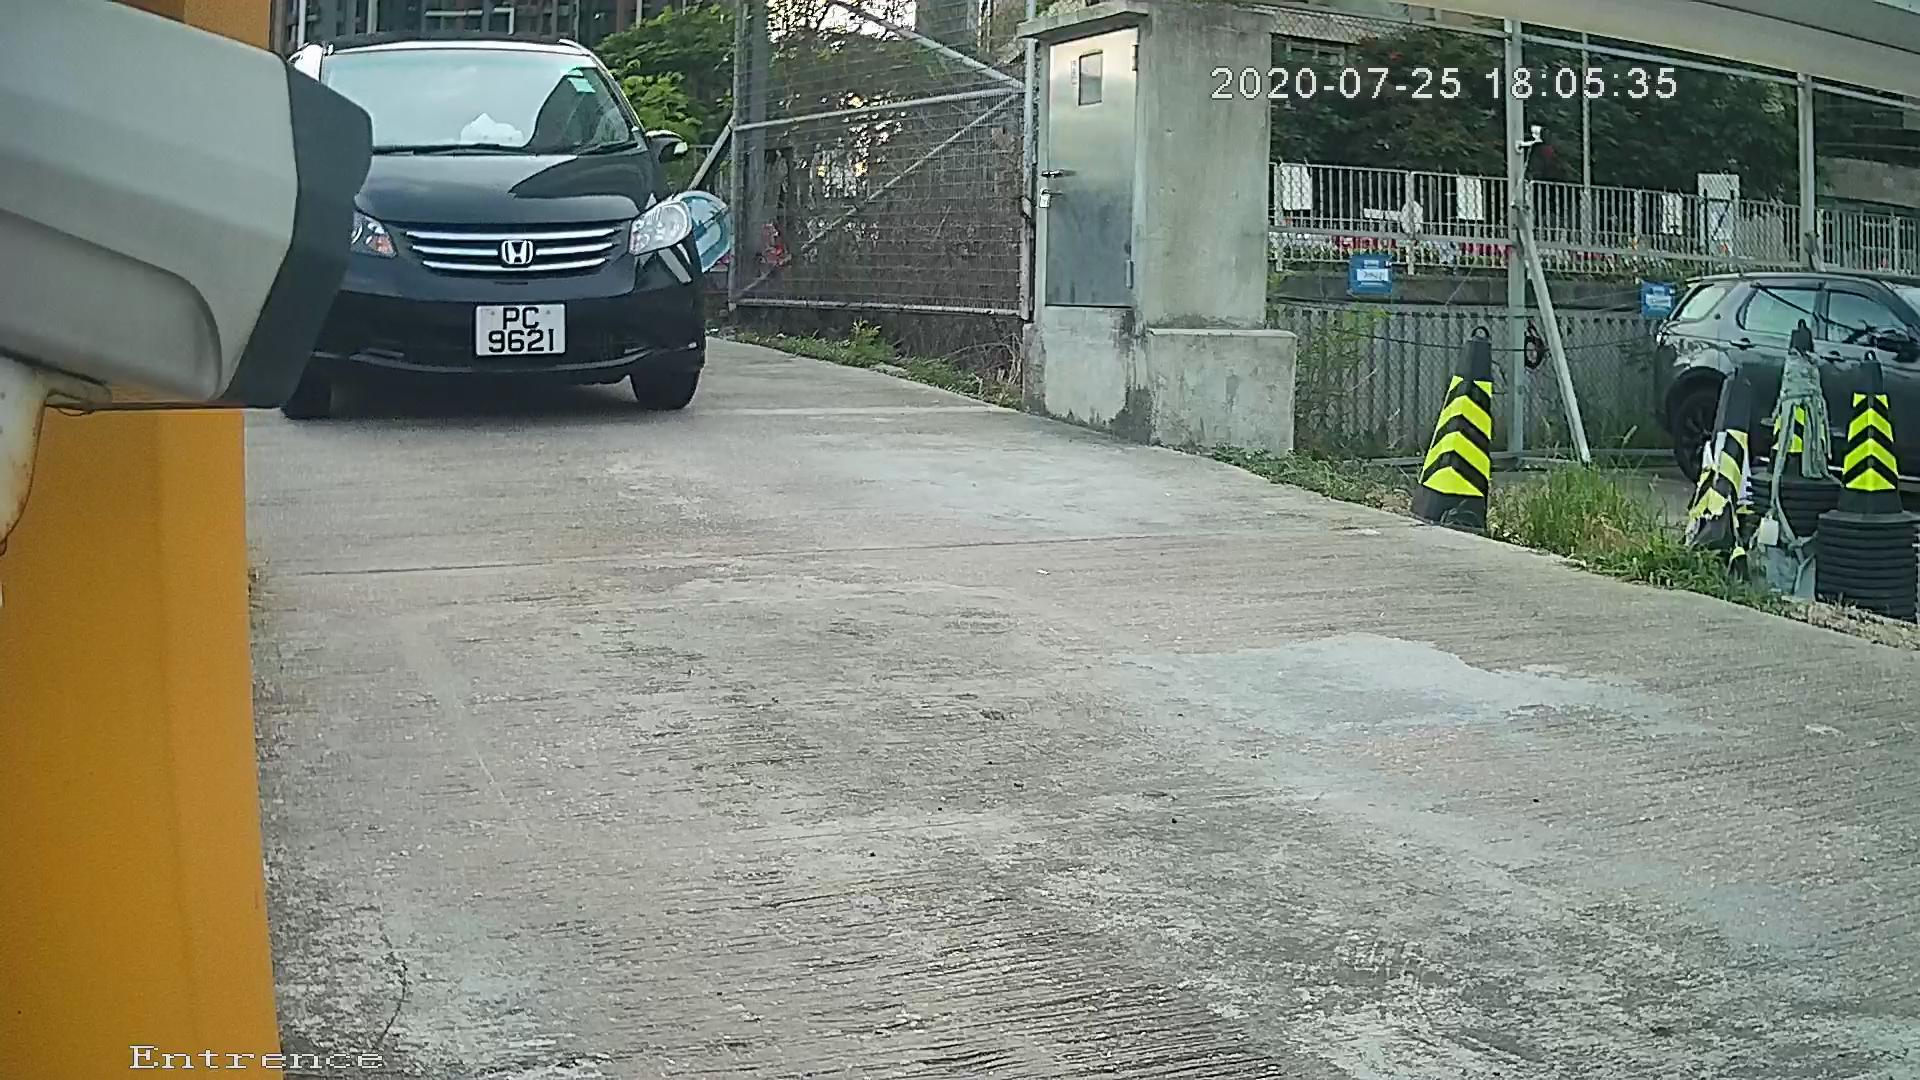Car: (155, 15, 866, 444)
License Plate: (463, 284, 586, 367)
